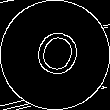O_S: (26, 24, 84, 86)
